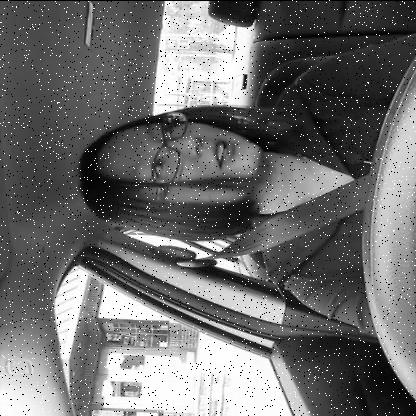seatbelt: (61, 99, 416, 271)
